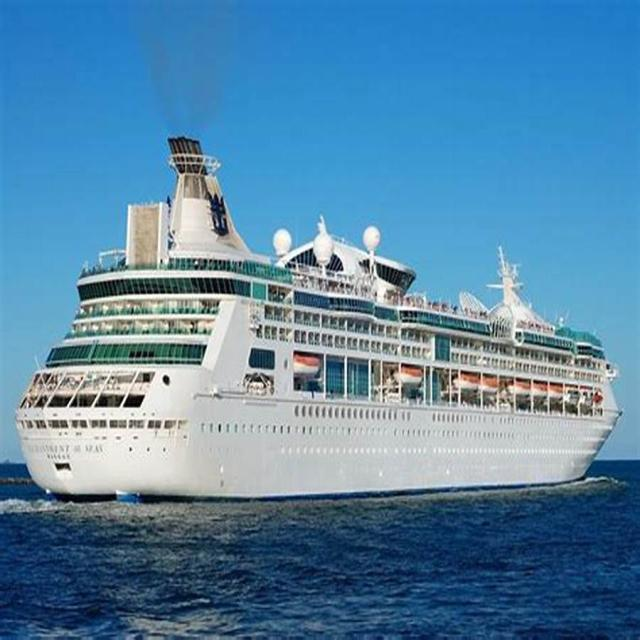passenger ship: (16, 125, 624, 494)
